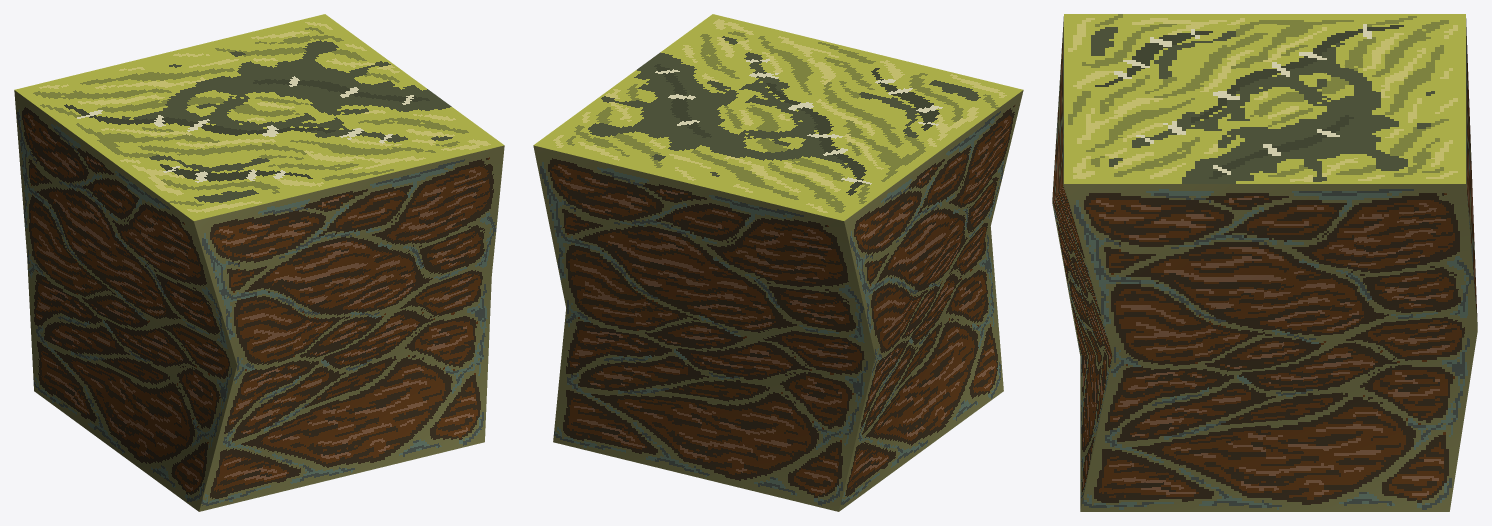
The model's file is meat_03.glb.
3 views of the same model, side by side, from view 1: azimuth 30°, elevation 25°; view 2: azimuth 150°, elevation 25°; view 3: azimuth 270°, elevation 25° (orthographic). The views are drawn at different scales.
Parts seen in each view (by area): view 1: Cube; view 2: Cube; view 3: Cube.
Boxes of the visible parts, x1,y1,x2,y2 form: Cube: (14, 14, 504, 511); Cube: (533, 14, 1023, 511); Cube: (1052, 14, 1477, 511).
Bounding box in the file's own units: 0.5758 × 0.5 × 0.5758.
1 material, 1 textured.
